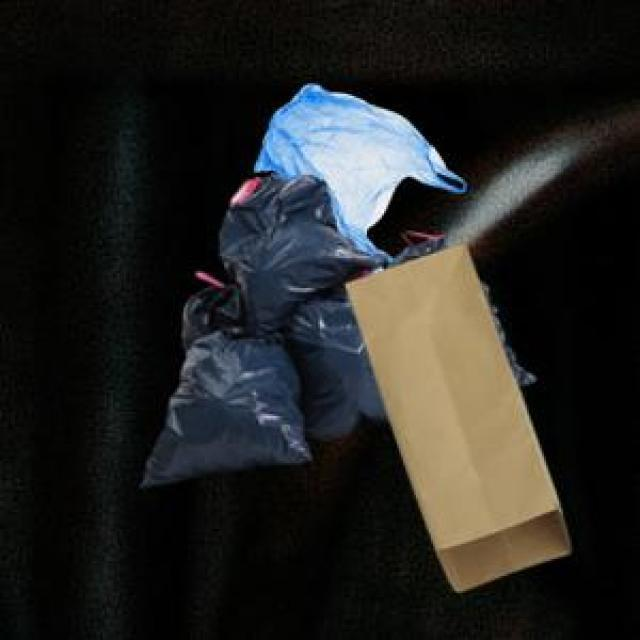miscellaneous trash: (138, 171, 531, 484)
paper: (341, 239, 565, 587)
